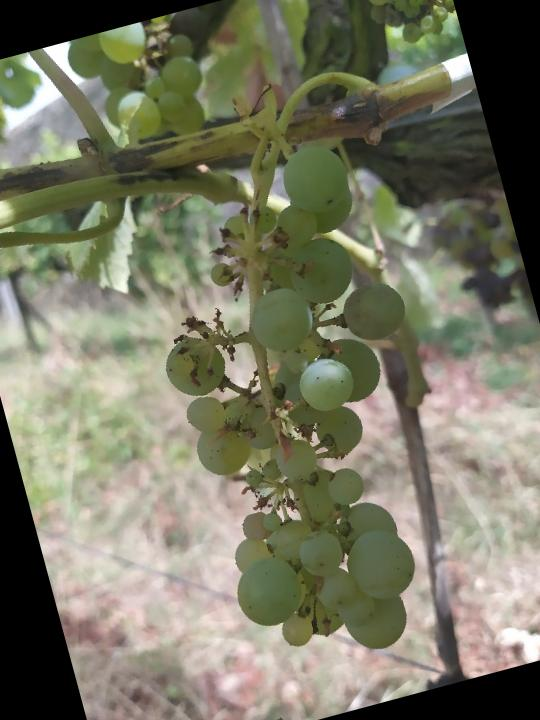grape: (114, 128, 495, 689)
